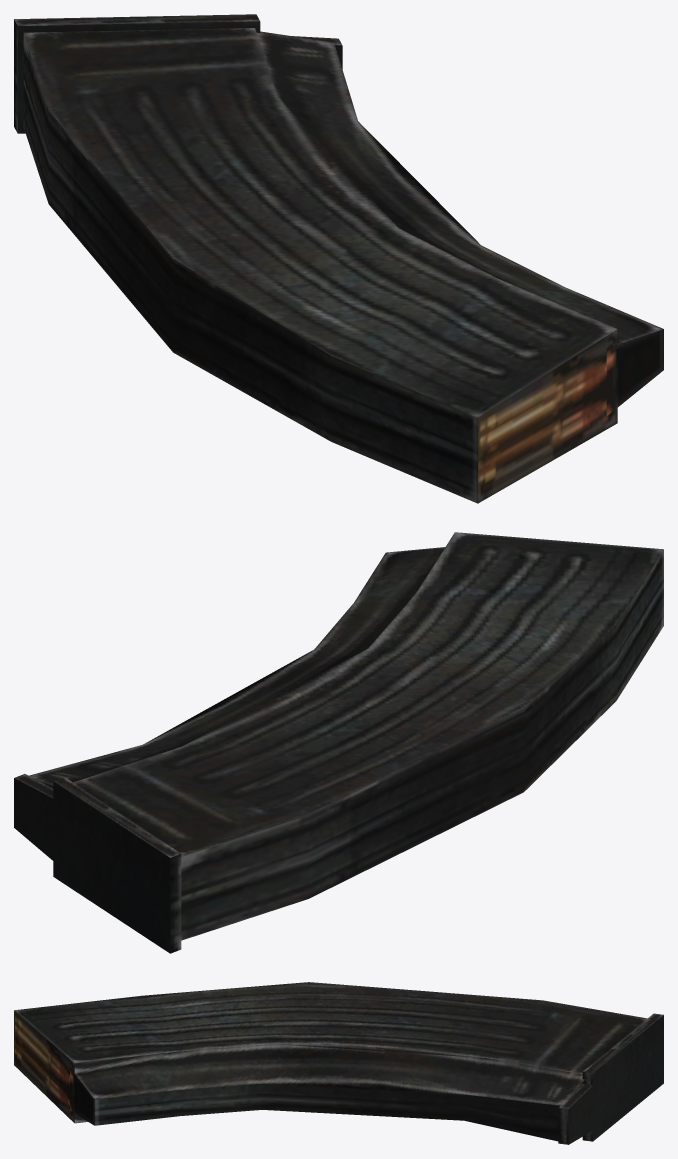
Rendered from weapon_ak47_clip_LOD0.obj.
3 views of the same model, one above another, from view 1: azimuth 30°, elevation 25°; view 2: azimuth 150°, elevation 25°; view 3: azimuth 270°, elevation 25° (orthographic). The views are drawn at different scales.
Parts seen in each view (by area): view 1: mtl_weapon_ak47; view 2: mtl_weapon_ak47; view 3: mtl_weapon_ak47.
Boxes of the visible parts, bbox=[...] form: mtl_weapon_ak47: bbox=[14, 14, 663, 503]; mtl_weapon_ak47: bbox=[14, 532, 663, 953]; mtl_weapon_ak47: bbox=[14, 982, 663, 1144].
Bounding box in the file's own units: 9.28 × 2.58 × 22.16.
